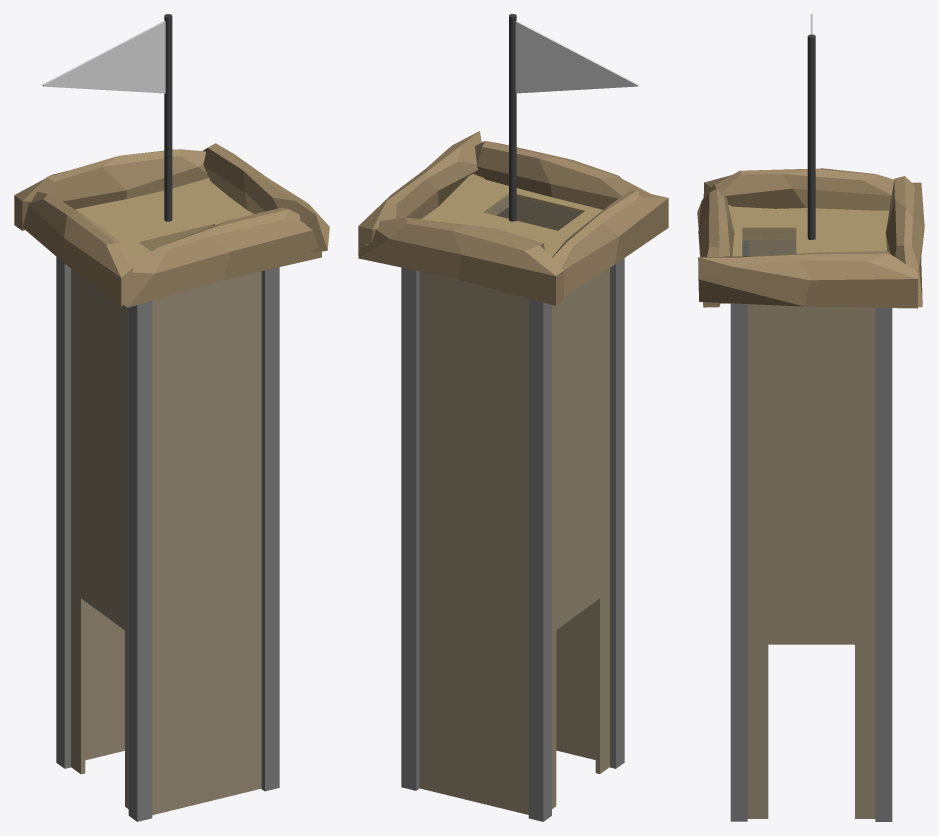
Rendered from tower.fbx.
The picture shows the model from 3 angles, left to right: view 1: azimuth 30°, elevation 25°; view 2: azimuth 150°, elevation 25°; view 3: azimuth 270°, elevation 25°; orthographic projection.
Visible parts, largest first — view 1: Cube, Cube.003, Cube.007, Cube.001, Cube.004, Cube.005, Cube.006, Cube.008, Cube.010, Cube.009, Cylinder; view 2: Cube, Cube.004, Cube.006, Cube.002, Cube.003, Cube.008, Cube.007, Cube.005, Cube.010, Cube.009, Cylinder; view 3: Cube, Cube.009, Cube.001, Cube.002, Cube.008, Cube.005, Cube.006, Cube.007, Cylinder.
Boxes of the visible parts, bbox=[...] form: Cube: bbox=[71, 269, 261, 815]; Cube.003: bbox=[128, 301, 152, 821]; Cube.007: bbox=[123, 207, 321, 307]; Cube.001: bbox=[261, 267, 279, 791]; Cube.004: bbox=[56, 257, 70, 768]; Cube.005: bbox=[75, 178, 253, 260]; Cube.006: bbox=[14, 149, 208, 230]; Cube.008: bbox=[22, 191, 136, 307]; Cube.010: bbox=[42, 20, 165, 93]; Cube.009: bbox=[203, 143, 329, 252]; Cylinder: bbox=[164, 14, 172, 221]; Cube: bbox=[419, 196, 609, 814]; Cube.004: bbox=[528, 299, 551, 821]; Cube.006: bbox=[358, 217, 563, 305]; Cube.002: bbox=[401, 267, 419, 790]; Cube.003: bbox=[610, 258, 624, 768]; Cube.008: bbox=[552, 190, 668, 296]; Cube.007: bbox=[473, 141, 652, 209]; Cube.005: bbox=[365, 174, 602, 257]; Cube.010: bbox=[515, 20, 638, 93]; Cube.009: bbox=[358, 131, 481, 255]; Cylinder: bbox=[509, 14, 516, 221]; Cube: bbox=[742, 230, 875, 818]; Cube.009: bbox=[698, 251, 917, 308]; Cube.001: bbox=[730, 303, 747, 821]; Cube.002: bbox=[875, 307, 892, 821]; Cube.008: bbox=[703, 168, 893, 210]; Cube.005: bbox=[720, 205, 918, 303]; Cube.006: bbox=[885, 176, 924, 307]; Cube.007: bbox=[697, 184, 734, 307]; Cylinder: bbox=[807, 34, 815, 239].
Bounding box in the file's own units: 1829 × 5775 × 1585.
